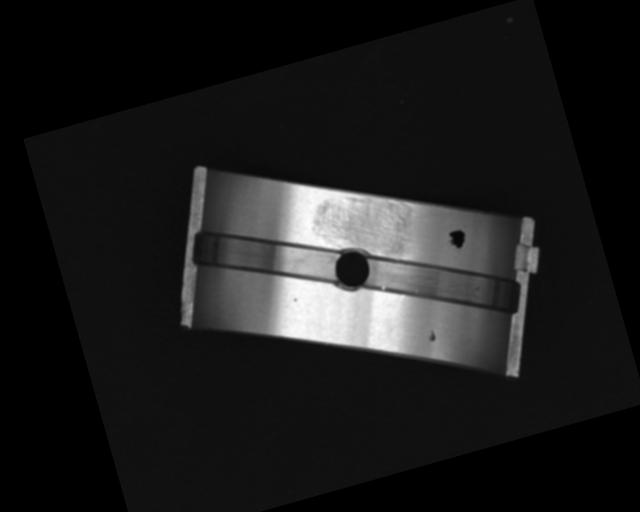blot: (446, 227, 468, 251)
bruise: (425, 328, 439, 344), (292, 297, 298, 303)
gap: (358, 218, 528, 349), (182, 195, 345, 318)
hole: (325, 241, 381, 298)
nick: (382, 294, 413, 331)
scratch: (303, 176, 425, 275)
